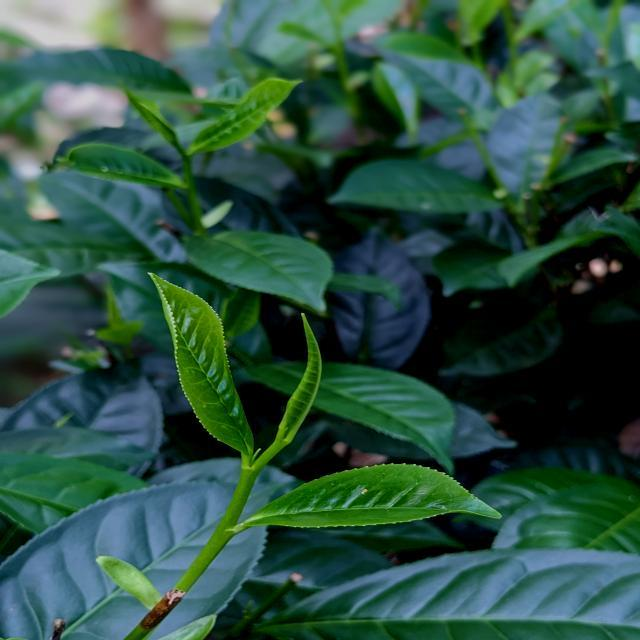Stem: (242, 467, 255, 481)
